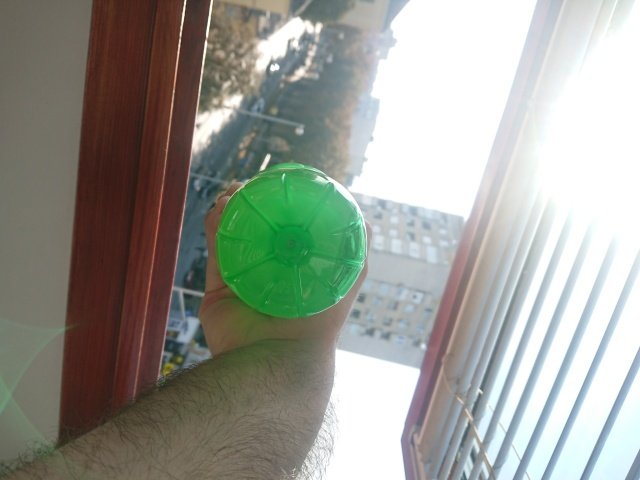Vindi Iso Sport Lemon-Grapefruit 500mL: (211, 159, 371, 323)
